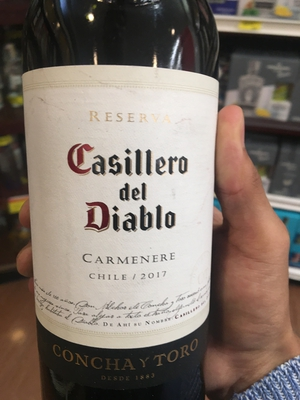casillero del diablo carmenere: (19, 16, 227, 400)
